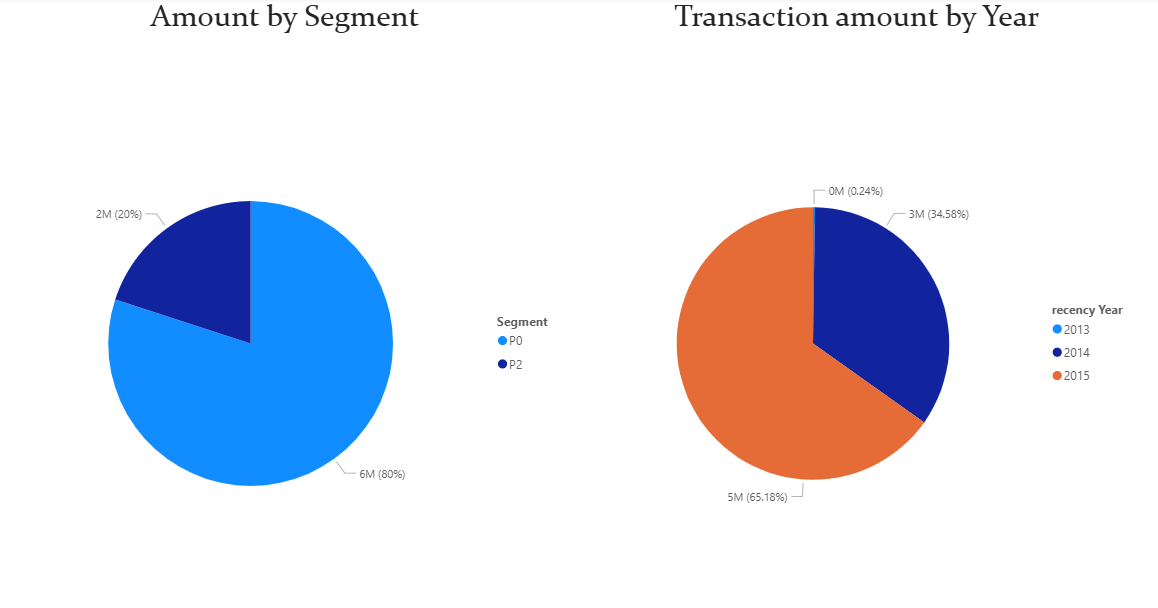

Layout of this report page (visuals, bound fields, positions):
{"tool":"powerbi","page":{"name":"Page 1","canvas":[1280,720],"ordinal":0},"visuals":[{"type":"pieChart","title":"Amount by Segment","fields":{"Category":["AddAnalysis.Segment"],"Y":["Sum(AddAnalysis.monetary)"]},"box":[0,0,625.7,720.4],"z":0},{"type":"pieChart","title":"Transaction amount by Year","fields":{"Category":["AddAnalysis.recency.Variation.Date Hierarchy.Year","AddAnalysis.recency.Variation.Date Hierarchy.Quarter","AddAnalysis.recency.Variation.Date Hierarchy.Month","AddAnalysis.recency.Variation.Date Hierarchy.Day"],"Y":["Sum(AddAnalysis.monetary)"]},"box":[625.7,0,629.8,720.4],"z":1}]}

Visuals, with their boxes on the page's 1280x720 design canvas (x1, y1, x2, y2). These are canvas units, not pixel positions in the 1158x608 screenshot, which may show the page scaled, cropped or inside an application window:
"Amount by Segment" pieChart: x1=0 y1=0 x2=626 y2=720
"Transaction amount by Year" pieChart: x1=626 y1=0 x2=1256 y2=720
